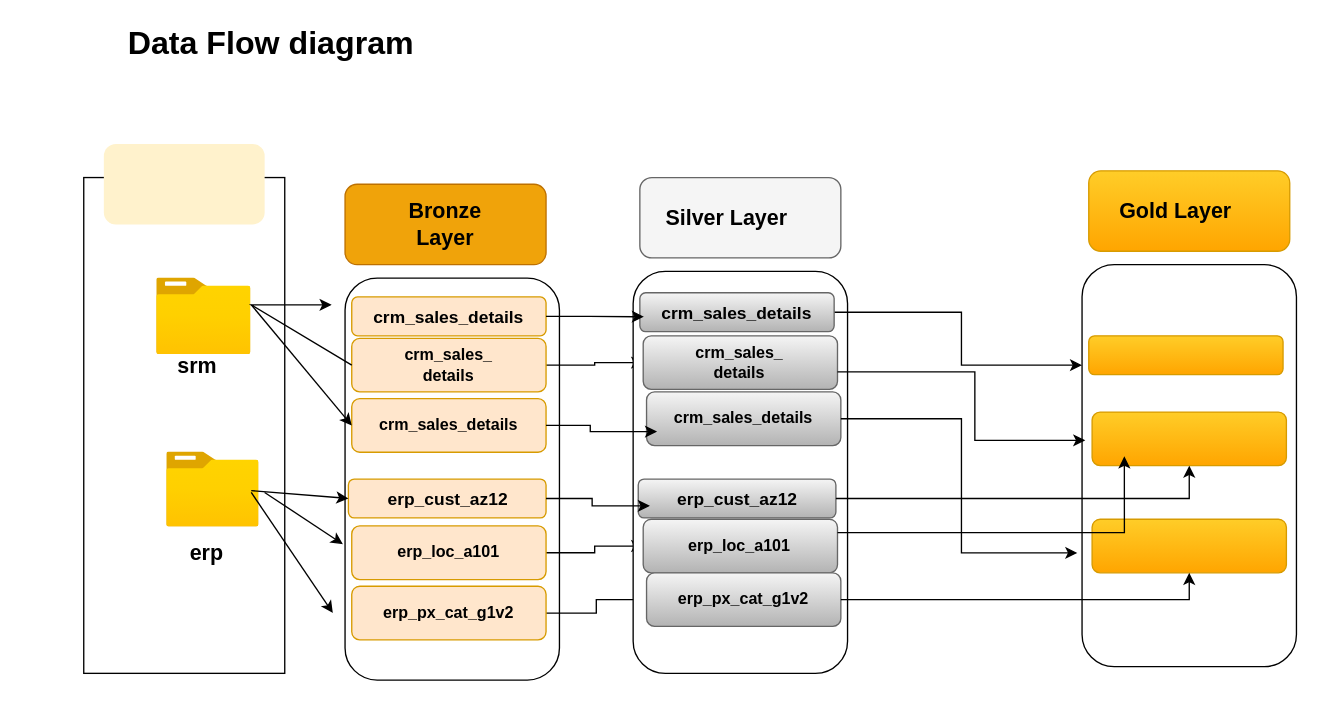
Some shapes in this 1320 by 704 pixel diagram are drawn without their labels. Each missing label, with the centre of its shape:
dim_customers: the point at 1188,438
dim_products: the point at 1188,545
fact_sales: the point at 1185,354
sources: the point at 183,183
